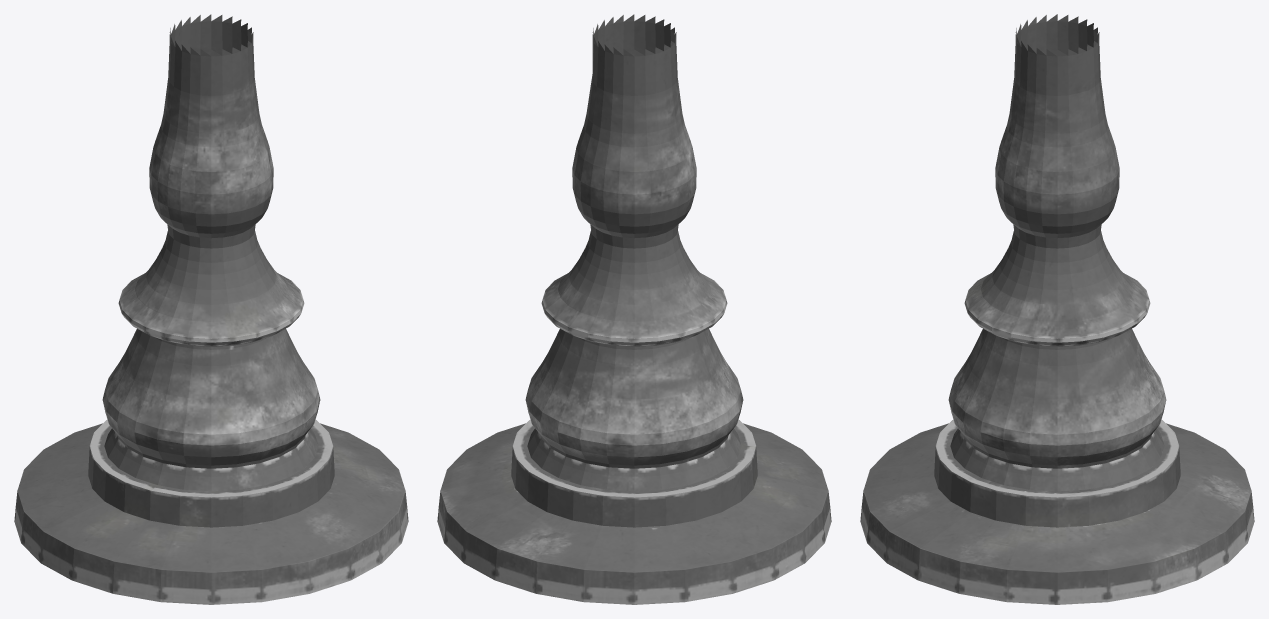
The model's file is lamp_base.glb.
The picture shows the model from 3 angles, left to right: view 1: azimuth 30°, elevation 25°; view 2: azimuth 150°, elevation 25°; view 3: azimuth 270°, elevation 25°; orthographic projection.
Parts seen in each view (by area): view 1: lamp_base; view 2: lamp_base; view 3: lamp_base.
Boxes of the visible parts, box(x1,y1,x2,y2) form: lamp_base: box(14, 14, 408, 604); lamp_base: box(437, 14, 831, 604); lamp_base: box(860, 14, 1254, 604).
Bounding box in the file's own units: 0.2188 × 0.3 × 0.2188.
Materials: 1 (1 with a texture image).
